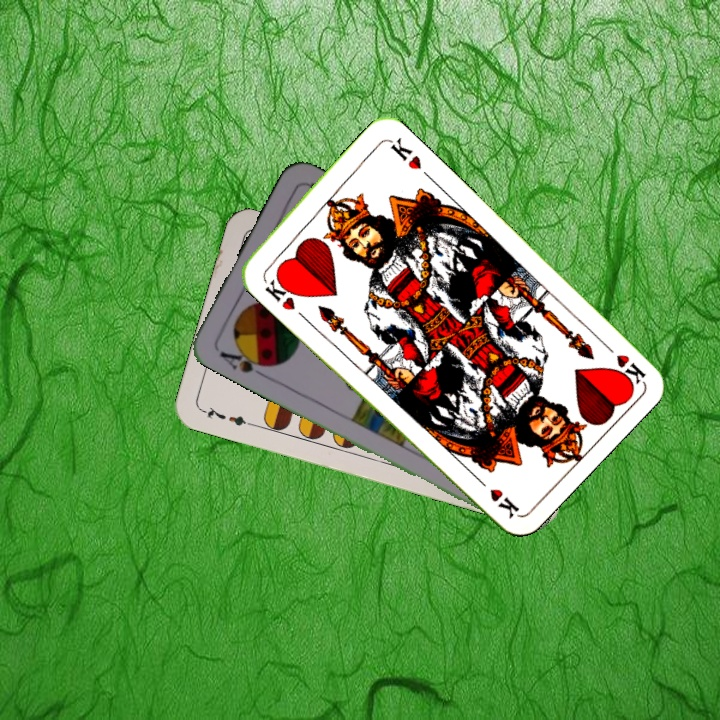E7: (198, 402, 256, 429)
HK: (597, 337, 648, 389), (261, 271, 301, 313)
SA: (216, 343, 273, 380)
